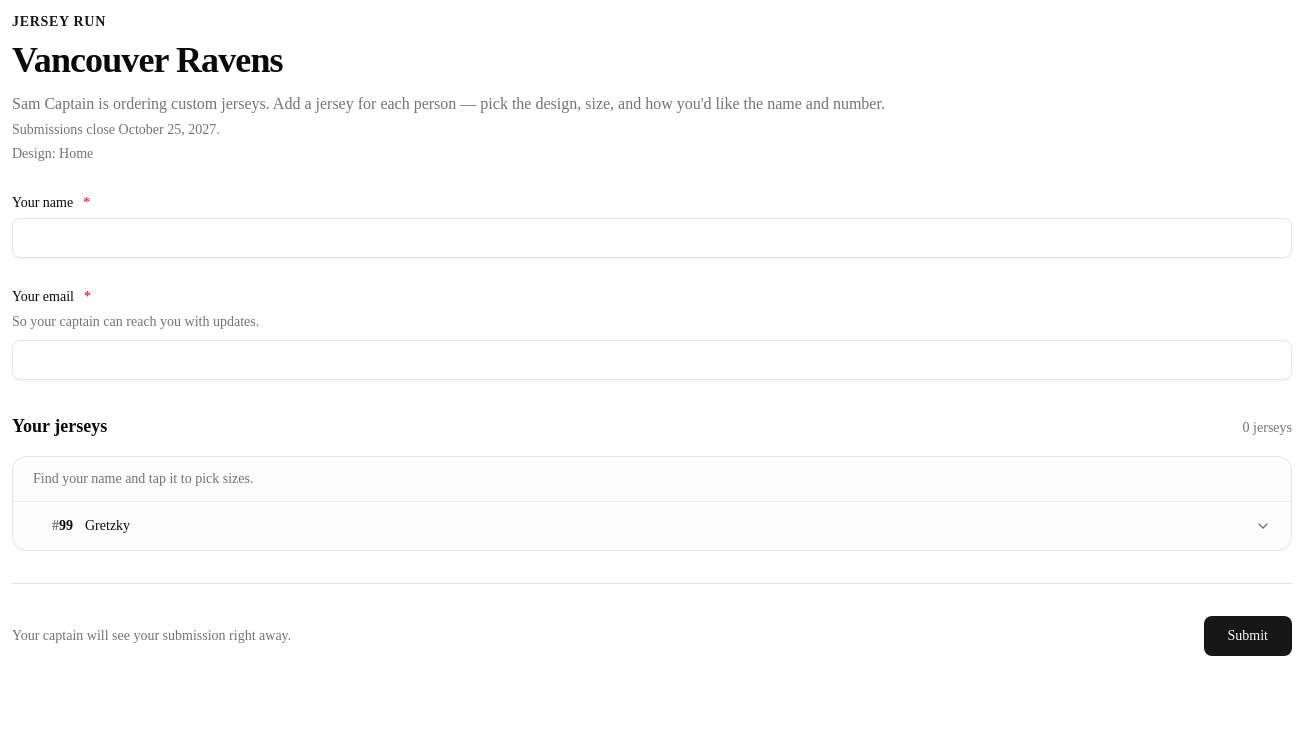
Test: PublicOrderForm › blocks a fixed-mode submit with nothing selected
In the field labelled "Your name *": (652, 238) [12,218,1292,258], type "Pat Parent"
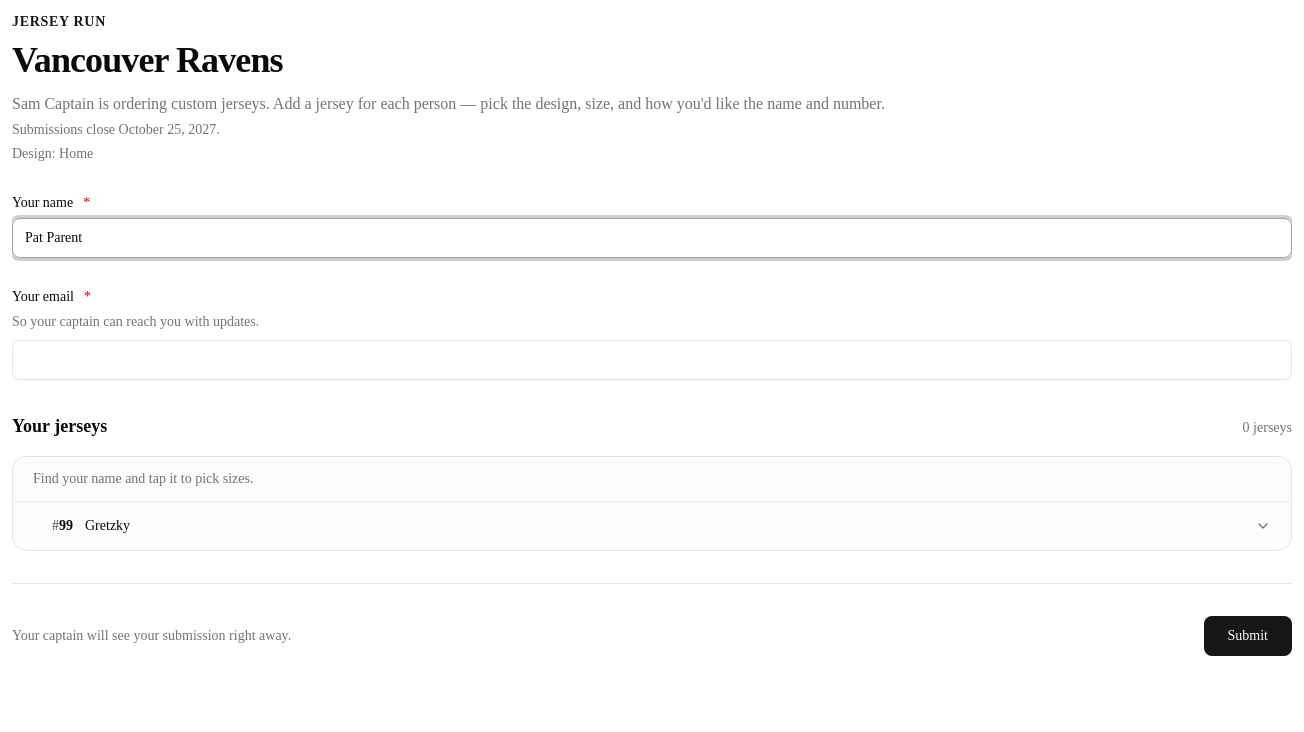
In the field labelled "Your email *": (652, 360) [12,340,1292,380], type "pat@example.com"
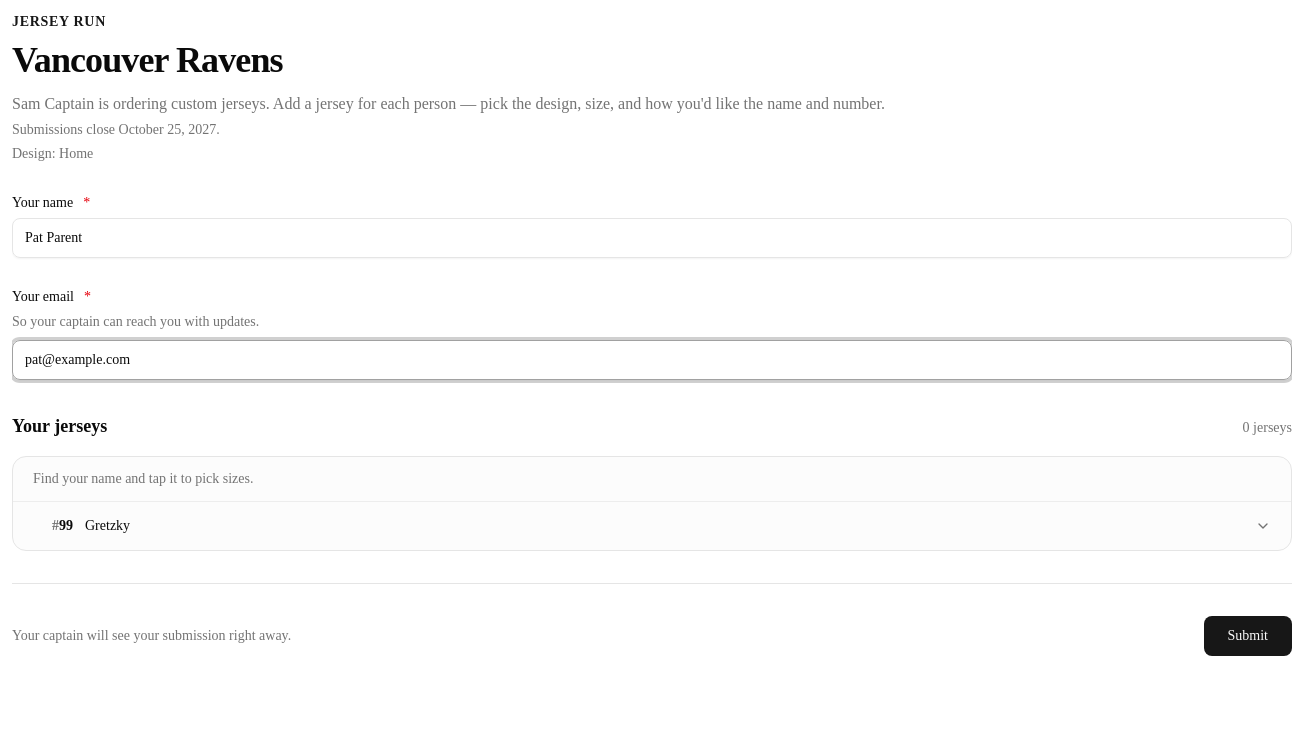
Click the button "Submit": (1248, 636) [1204,616,1292,656]
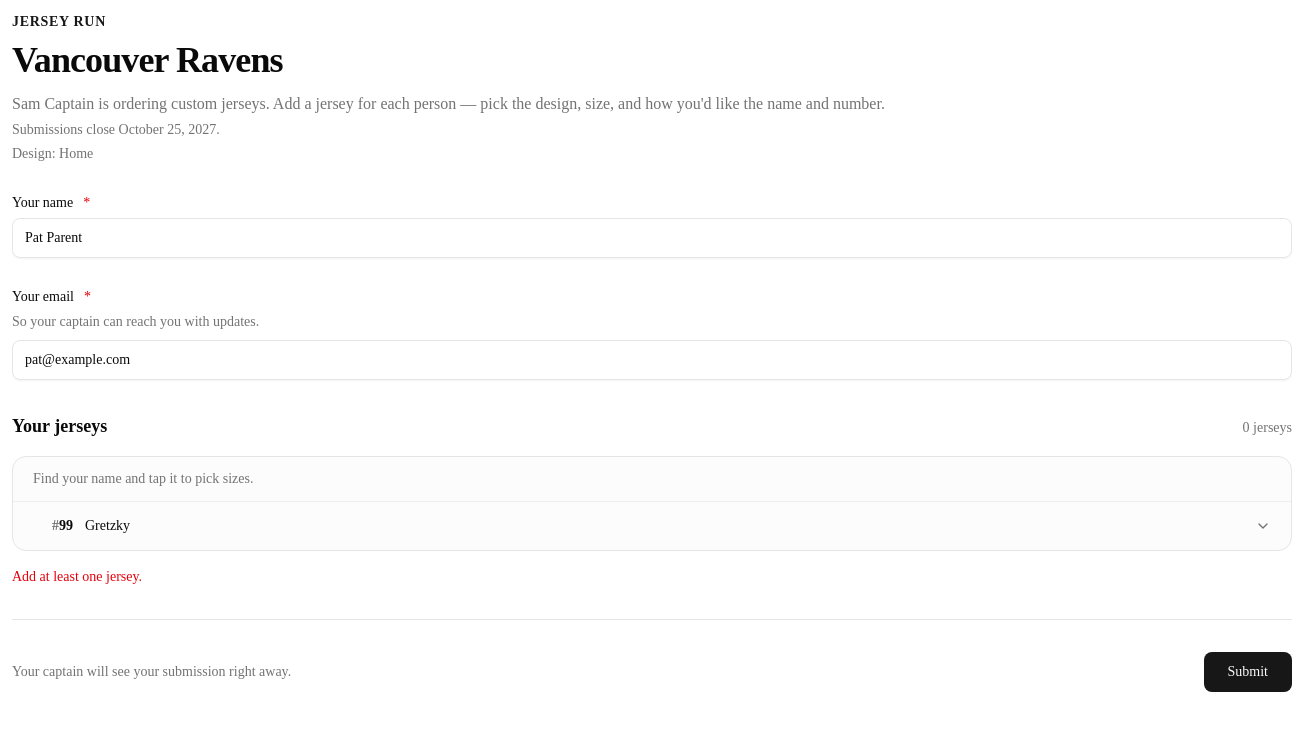
Now the text "Add at least one jersey." is shown, box [12,569,142,584]
